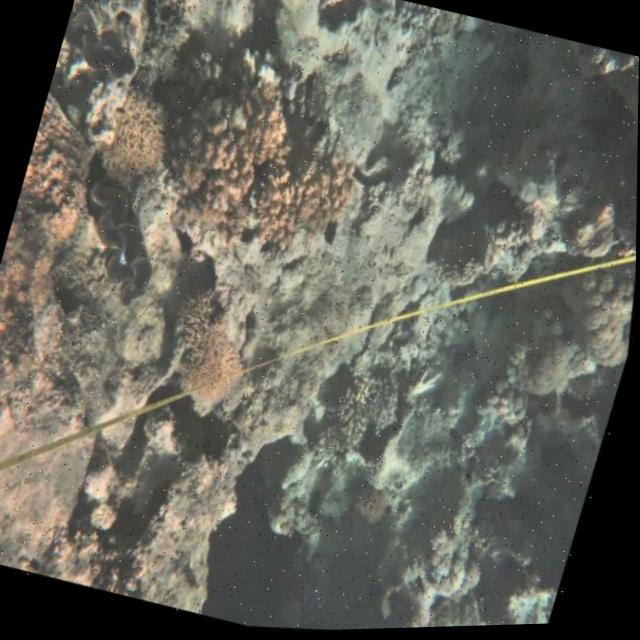Healthy Coral: (119, 13, 402, 304), (142, 265, 272, 422), (79, 78, 195, 218), (532, 515, 582, 627)
